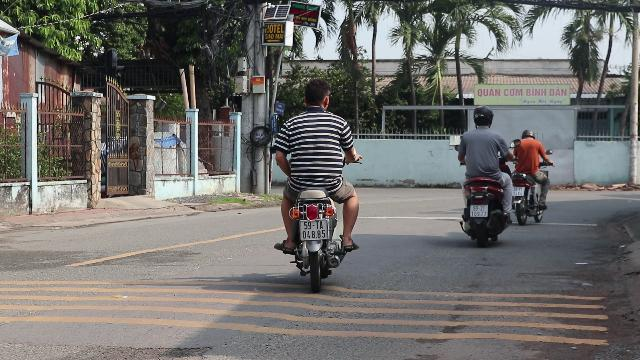helmet: (472, 106, 494, 128)
licenseplate: (301, 220, 329, 240), (470, 205, 488, 217)
motorcyclist: (269, 77, 365, 287), (454, 106, 514, 246)
nohelmet: (302, 78, 332, 110)
